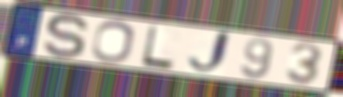3: (286, 41, 325, 87)
9: (239, 36, 275, 80)
J: (185, 29, 234, 77)
L: (139, 24, 178, 72)
O: (89, 19, 136, 65)
S: (42, 13, 92, 61)
